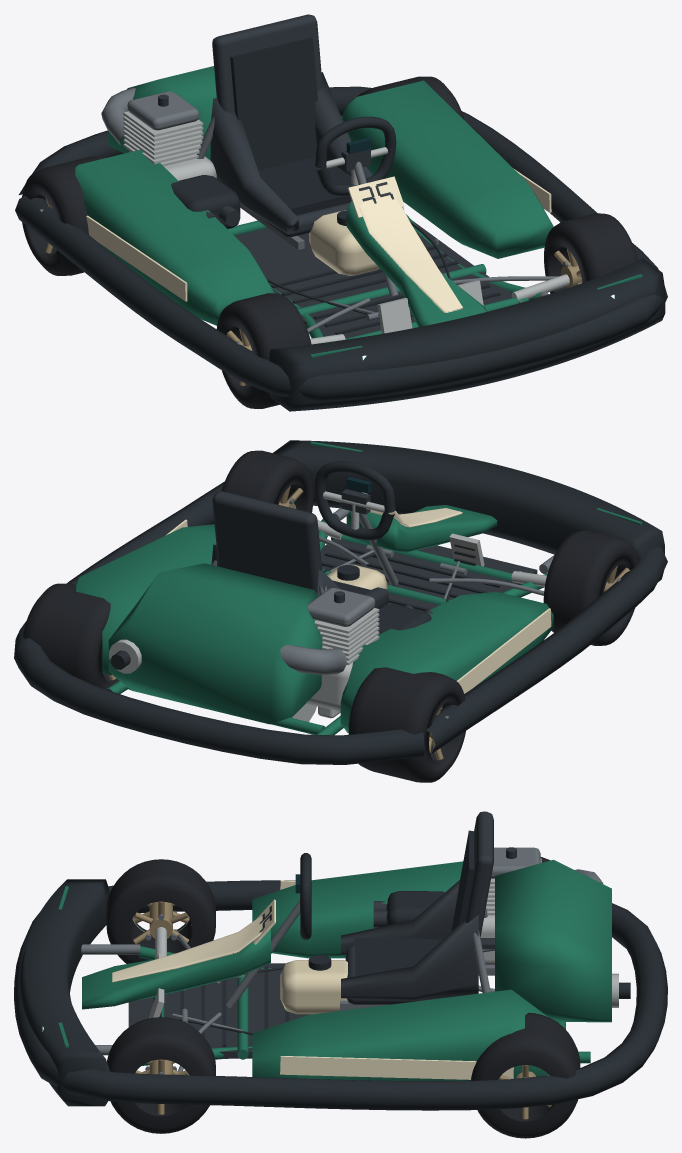
File: ooli.glb
3 views of the same model, one above another, from view 1: azimuth 30°, elevation 25°; view 2: azimuth 150°, elevation 25°; view 3: azimuth 270°, elevation 25° (orthographic).
Parts seen in each view (by area): view 1: Moulded bumper polymer (×3), paint, Satin composite, Slick vulcanised rubber (×4), Seat fabric, Livery ivory, Brushed alloy (×2), Steel fasteners, Fuel reservoir; view 2: Moulded bumper polymer (×3), paint, Slick vulcanised rubber (×4), Satin composite, Brushed alloy (×3), Steel fasteners, Livery ivory, Fuel reservoir; view 3: paint, Moulded bumper polymer (×3), Slick vulcanised rubber (×3), Satin composite, Livery ivory, Steel fasteners (×2), Seat fabric, Fuel reservoir, Magnesium wheel centres (×2), Brushed alloy.
Boxes of the visible parts, <box> form: Moulded bumper polymer (×3): <box>15,86,667,411</box>; paint: <box>75,66,553,339</box>; Satin composite: <box>158,14,512,338</box>; Slick vulcanised rubber (×4): <box>22,76,638,408</box>; Seat fabric: <box>230,37,351,215</box>; Livery ivory: <box>86,168,551,312</box>; Brushed alloy (×2): <box>123,111,569,344</box>; Steel fasteners: <box>101,87,558,332</box>; Fuel reservoir: <box>309,210,379,275</box>; Moulded bumper polymer (×3): <box>14,440,667,764</box>; paint: <box>75,505,553,735</box>; Slick vulcanised rubber (×4): <box>23,450,639,782</box>; Satin composite: <box>211,491,537,614</box>; Brushed alloy (×3): <box>109,491,546,721</box>; Steel fasteners: <box>211,513,544,711</box>; Livery ivory: <box>165,508,551,708</box>; Fuel reservoir: <box>327,564,387,589</box>; paint: <box>82,859,611,1081</box>; Moulded bumper polymer (×3): <box>14,853,667,1110</box>; Slick vulcanised rubber (×3): <box>106,859,580,1138</box>; Satin composite: <box>128,811,516,1058</box>; Livery ivory: <box>112,880,513,1079</box>; Steel fasteners (×2): <box>81,847,603,1072</box>; Seat fabric: <box>355,830,474,976</box>; Fuel reservoir: <box>280,960,347,1014</box>; Magnesium wheel centres (×2): <box>133,901,189,1114</box>; Brushed alloy: <box>155,858,618,1007</box>.
Size of the model in its own units: 2.17 by 1.01 by 2.8.
